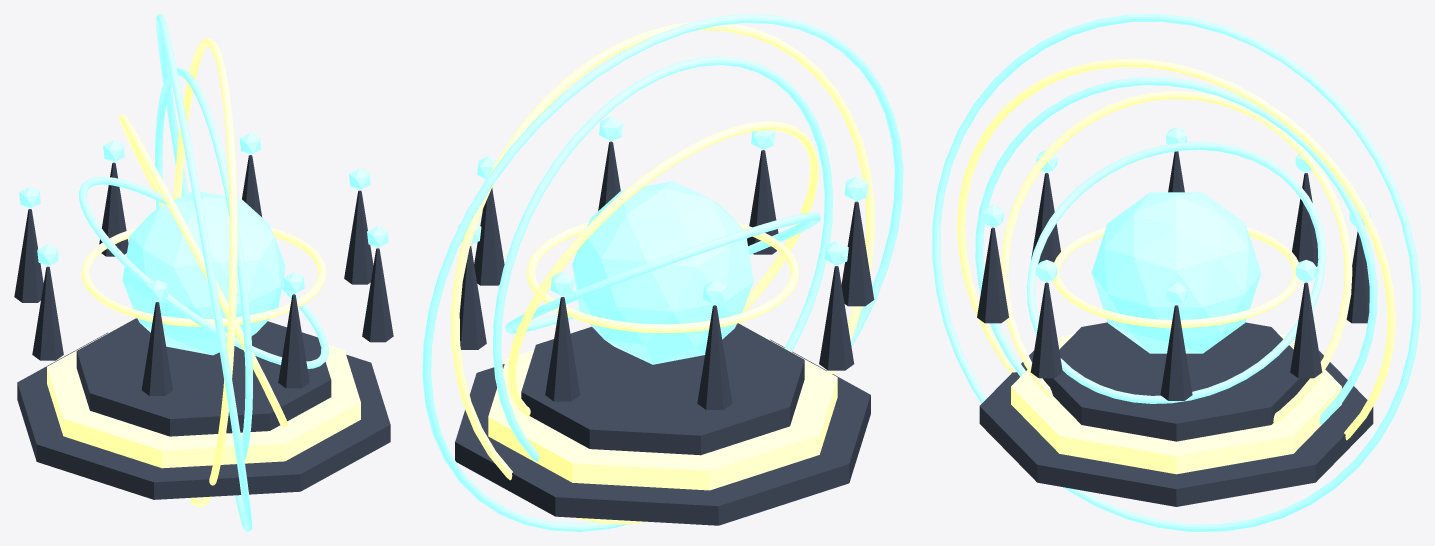
The model's file is gpu-blender-v1.glb.
3 renders of one model, left to right at view 1: azimuth 30°, elevation 25°; view 2: azimuth 150°, elevation 25°; view 3: azimuth 270°, elevation 25°, orthographic. The views are drawn at different scales.
Visible parts, largest first — view 1: Cylinder.002, Cylinder, SovereignCore_pod-smart-router, Cylinder.001, Torus.005, Torus.004, Torus.003, Torus.001, Torus, Torus.002, Cone.007, Cone.006 (+6 smaller); view 2: Cylinder.002, SovereignCore_pod-smart-router, Cylinder, Cylinder.001, Torus.005, Torus.004, Torus.003, Torus.002, Torus.001, Torus, Cone.004, Cone.002 (+6 smaller); view 3: SovereignCore_pod-smart-router, Cylinder.002, Cylinder, Cylinder.001, Torus.005, Torus.004, Torus.003, Torus.002, Torus.001, Torus, Cone.001, Cone.007 (+5 smaller).
Boxes of the visible parts, x1,y1,x2,y2 form: Cylinder.002: [76, 318, 331, 436]; Cylinder: [17, 332, 390, 499]; SovereignCore_pod-smart-router: [122, 191, 285, 355]; Cylinder.001: [47, 325, 360, 468]; Torus.005: [156, 14, 251, 531]; Torus.004: [173, 38, 237, 507]; Torus.003: [155, 68, 252, 459]; Torus.001: [79, 176, 328, 368]; Torus: [81, 227, 326, 326]; Torus.002: [118, 114, 287, 426]; Cone.007: [362, 248, 393, 342]; Cone.006: [278, 294, 309, 388]; Cylinder.002: [521, 323, 804, 455]; SovereignCore_pod-smart-router: [572, 181, 753, 364]; Cylinder: [455, 339, 870, 525]; Cylinder.001: [488, 330, 837, 490]; Torus.005: [422, 14, 903, 531]; Torus.004: [451, 22, 874, 524]; Torus.003: [492, 56, 833, 461]; Torus.002: [507, 121, 818, 416]; Torus.001: [505, 212, 820, 333]; Torus: [526, 222, 799, 333]; Cone.004: [819, 266, 854, 370]; Cone.002: [545, 297, 580, 401]; SovereignCore_pod-smart-router: [1091, 192, 1261, 353]; Cylinder.002: [1043, 322, 1309, 441]; Cylinder: [979, 351, 1373, 506]; Cylinder.001: [1011, 334, 1341, 474]; Torus.005: [932, 14, 1420, 531]; Torus.004: [957, 59, 1395, 440]; Torus.003: [975, 77, 1377, 424]; Torus.002: [1001, 91, 1352, 423]; Torus.001: [1027, 142, 1325, 403]; Torus: [1053, 227, 1299, 327]; Cone.001: [1290, 282, 1322, 378]; Cone.007: [1030, 282, 1062, 378].
Size of the model in its own units: 4.41 by 5.93 by 5.46.
